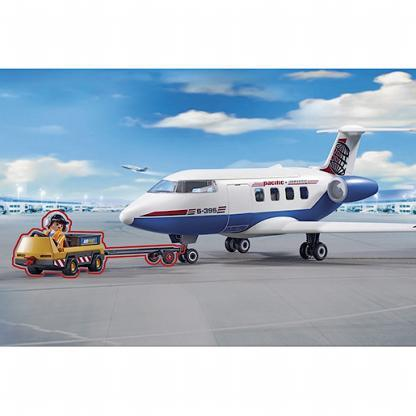CIV_Plane: (104, 126, 411, 256)
